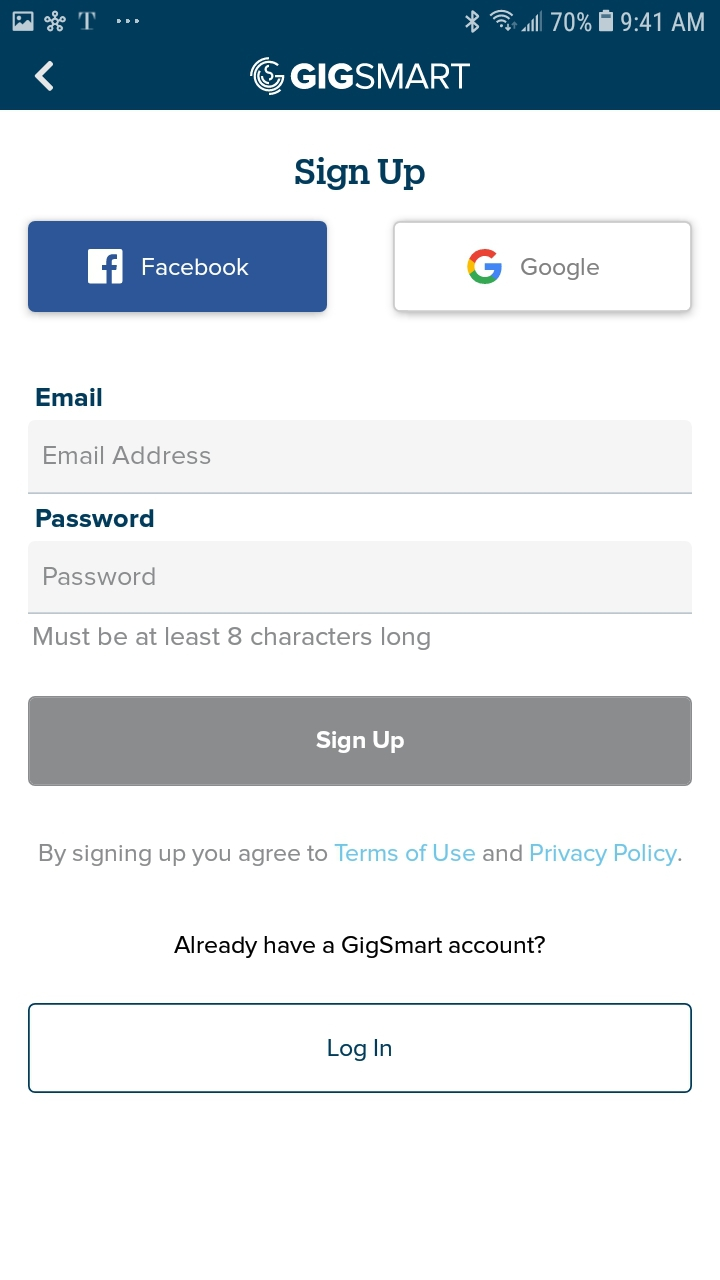EditText: (28, 541, 692, 615), (28, 421, 692, 495)
Icon: (35, 62, 54, 92)
Image: (250, 57, 286, 96)
Text: (40, 844, 682, 867), (35, 627, 431, 651), (174, 935, 546, 959), (290, 63, 471, 91), (296, 158, 426, 191), (45, 446, 212, 465), (37, 509, 155, 528), (45, 567, 156, 586), (37, 388, 103, 407)
TextButton: (28, 1002, 692, 1093), (29, 697, 692, 787), (29, 221, 328, 313), (393, 222, 692, 313)
UpperTaskBar: (1, 1, 720, 34)
